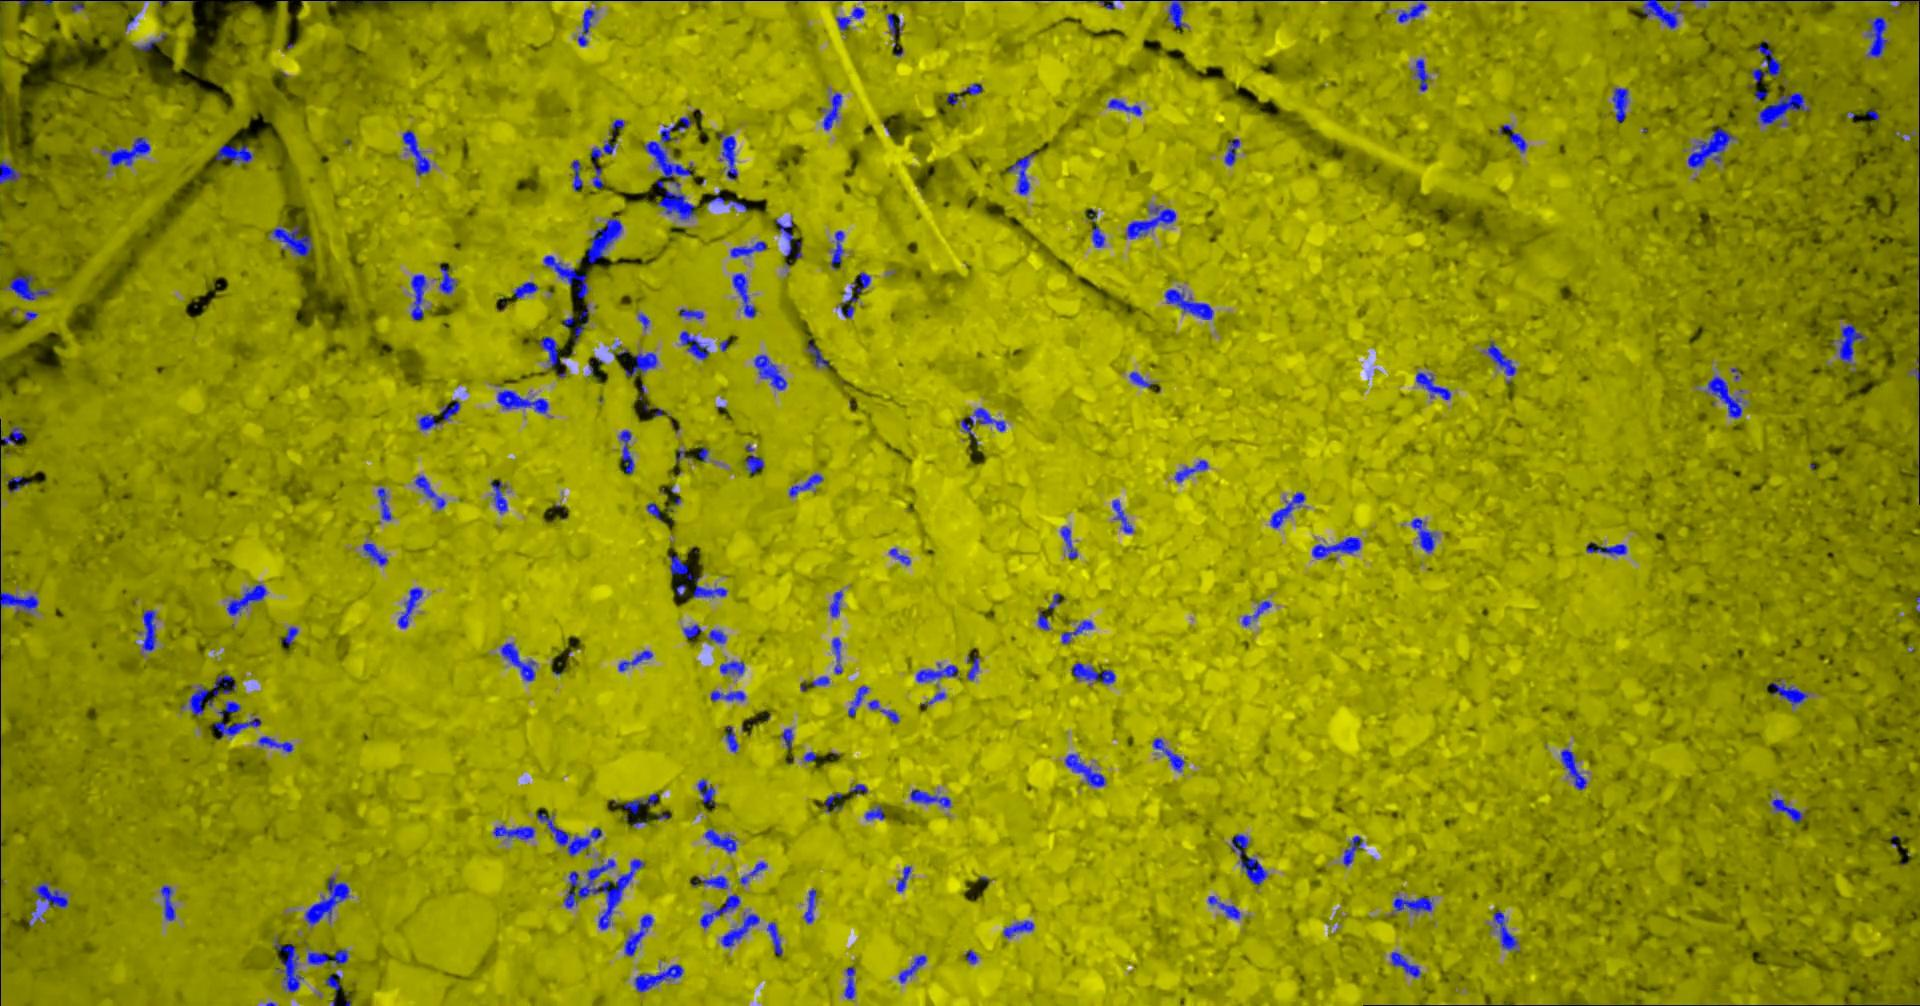ant: (643, 116, 693, 187), (536, 812, 601, 855), (669, 555, 728, 597), (303, 876, 349, 925), (543, 255, 588, 298), (1230, 833, 1267, 884), (189, 674, 235, 715), (1688, 127, 1735, 166), (1757, 91, 1810, 124), (1704, 375, 1743, 418), (585, 218, 622, 263), (213, 701, 260, 735), (274, 937, 303, 992), (1125, 206, 1175, 238), (1164, 288, 1213, 319), (960, 406, 1004, 438), (839, 272, 870, 318), (698, 894, 739, 929), (102, 136, 149, 165), (500, 641, 535, 681), (720, 913, 759, 948), (1064, 753, 1105, 786), (270, 225, 312, 257), (634, 964, 683, 991), (1750, 39, 1780, 83), (1270, 492, 1305, 528), (403, 130, 430, 175), (497, 389, 549, 413), (226, 583, 265, 615), (1487, 340, 1515, 384), (753, 354, 786, 390), (1007, 152, 1035, 194), (1839, 323, 1867, 365), (657, 189, 695, 220), (623, 915, 651, 955), (590, 140, 615, 187), (1310, 536, 1360, 559), (1641, 0, 1680, 28), (1152, 737, 1183, 771), (1559, 748, 1586, 789), (731, 273, 756, 318), (1493, 909, 1519, 951), (414, 475, 444, 508), (1768, 680, 1807, 705), (9, 274, 50, 298), (397, 587, 422, 627), (1415, 372, 1450, 399), (1410, 517, 1436, 553), (1072, 662, 1115, 683), (537, 337, 564, 371), (32, 882, 67, 907), (717, 132, 737, 179), (1865, 17, 1887, 57), (679, 330, 709, 359), (916, 662, 957, 682), (623, 352, 657, 377), (703, 829, 737, 854), (1498, 124, 1526, 152), (898, 954, 926, 982), (1241, 600, 1270, 626), (1771, 796, 1802, 822), (1208, 895, 1239, 920), (1175, 459, 1208, 481), (789, 473, 822, 495), (709, 189, 745, 210), (0, 591, 37, 611), (1390, 951, 1420, 977), (822, 91, 841, 130), (215, 144, 253, 163), (1062, 620, 1093, 643), (867, 699, 899, 721), (910, 789, 950, 807), (410, 274, 425, 320), (1112, 499, 1133, 533), (617, 650, 651, 671), (577, 8, 594, 46), (775, 218, 792, 257), (618, 429, 634, 474), (623, 793, 657, 813), (307, 948, 348, 964), (738, 861, 767, 884), (847, 686, 869, 716), (836, 8, 863, 30), (1397, 0, 1426, 22), (806, 338, 828, 367), (1342, 835, 1363, 865), (1392, 895, 1432, 911), (1107, 98, 1142, 116), (573, 304, 588, 343), (730, 240, 766, 257), (493, 826, 535, 840), (362, 542, 387, 565), (1166, 0, 1186, 28), (766, 921, 782, 955), (490, 480, 507, 513), (1060, 526, 1077, 559), (1611, 86, 1627, 122), (1002, 920, 1032, 937), (142, 608, 155, 650), (135, 34, 166, 51), (258, 735, 292, 751), (160, 885, 175, 920), (0, 159, 20, 184), (325, 972, 340, 1005), (830, 230, 843, 269), (438, 265, 456, 293), (697, 779, 715, 807), (1585, 542, 1625, 554), (377, 486, 391, 520), (803, 888, 815, 923), (513, 281, 537, 298), (830, 636, 842, 673), (1415, 58, 1427, 91), (439, 399, 458, 420), (1224, 138, 1239, 165), (0, 427, 23, 445), (888, 547, 910, 565), (710, 690, 745, 701), (895, 865, 910, 890), (697, 875, 728, 888), (417, 413, 439, 429), (6, 475, 29, 492), (1129, 371, 1150, 387), (719, 661, 744, 674), (744, 455, 763, 473), (829, 589, 842, 616), (725, 725, 738, 752), (824, 793, 843, 810), (571, 159, 582, 191), (844, 967, 855, 998), (888, 13, 902, 36), (921, 692, 945, 705), (279, 626, 297, 643), (863, 805, 884, 819), (679, 307, 703, 319), (966, 655, 978, 680), (646, 502, 662, 520), (1091, 226, 1103, 246), (683, 624, 701, 638), (805, 676, 829, 686), (781, 728, 792, 748), (709, 629, 725, 643), (963, 83, 982, 94), (1037, 610, 1049, 629), (946, 91, 961, 105), (1098, 0, 1120, 9), (69, 0, 85, 11), (637, 312, 649, 329), (18, 0, 52, 5), (965, 949, 977, 963), (362, 0, 436, 1)
